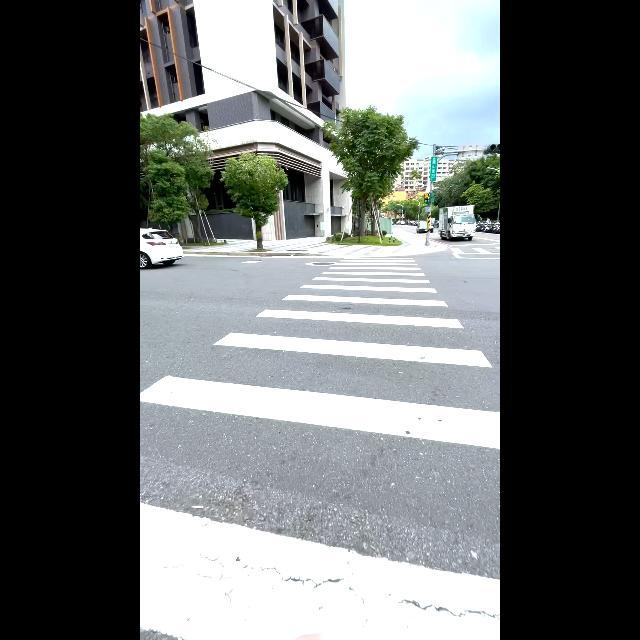sidewalk: (140, 256, 500, 640)
